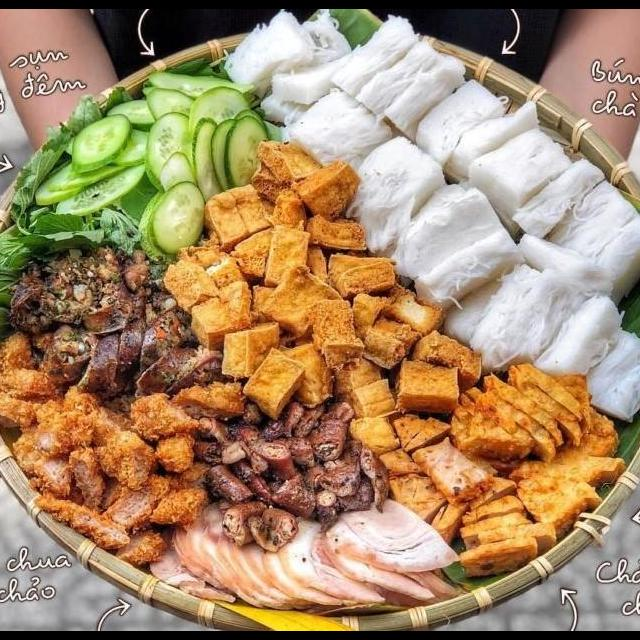bun: (340, 75, 579, 316), (428, 175, 640, 426), (137, 485, 476, 620), (220, 10, 471, 186)
bun dau: (0, 38, 640, 631)
cha com: (0, 327, 250, 575), (444, 357, 599, 464)
dau hu: (158, 135, 451, 353), (304, 296, 486, 425), (217, 316, 343, 424)
doi sun: (0, 234, 231, 404), (183, 395, 394, 556)
